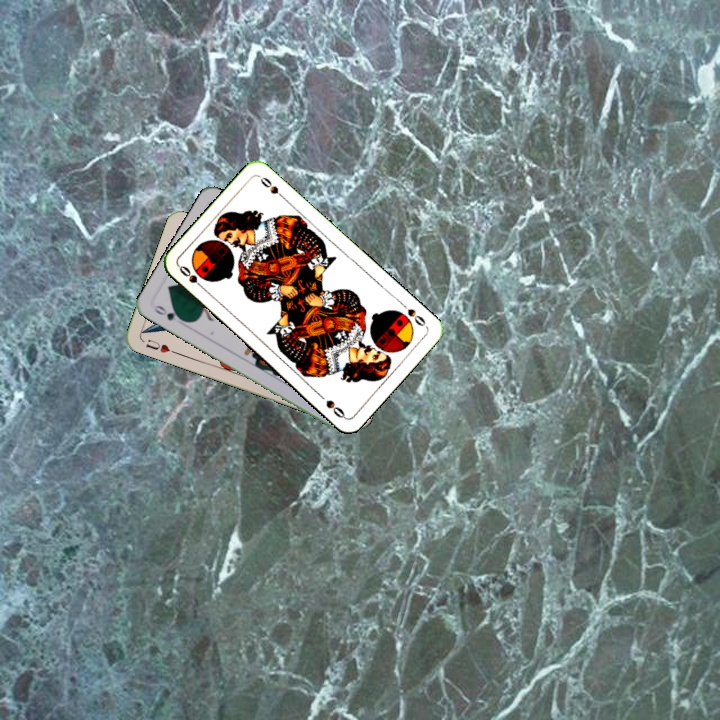GO: (150, 301, 188, 328)
HU: (142, 335, 178, 356)
SO: (175, 262, 208, 293), (396, 298, 428, 329)
